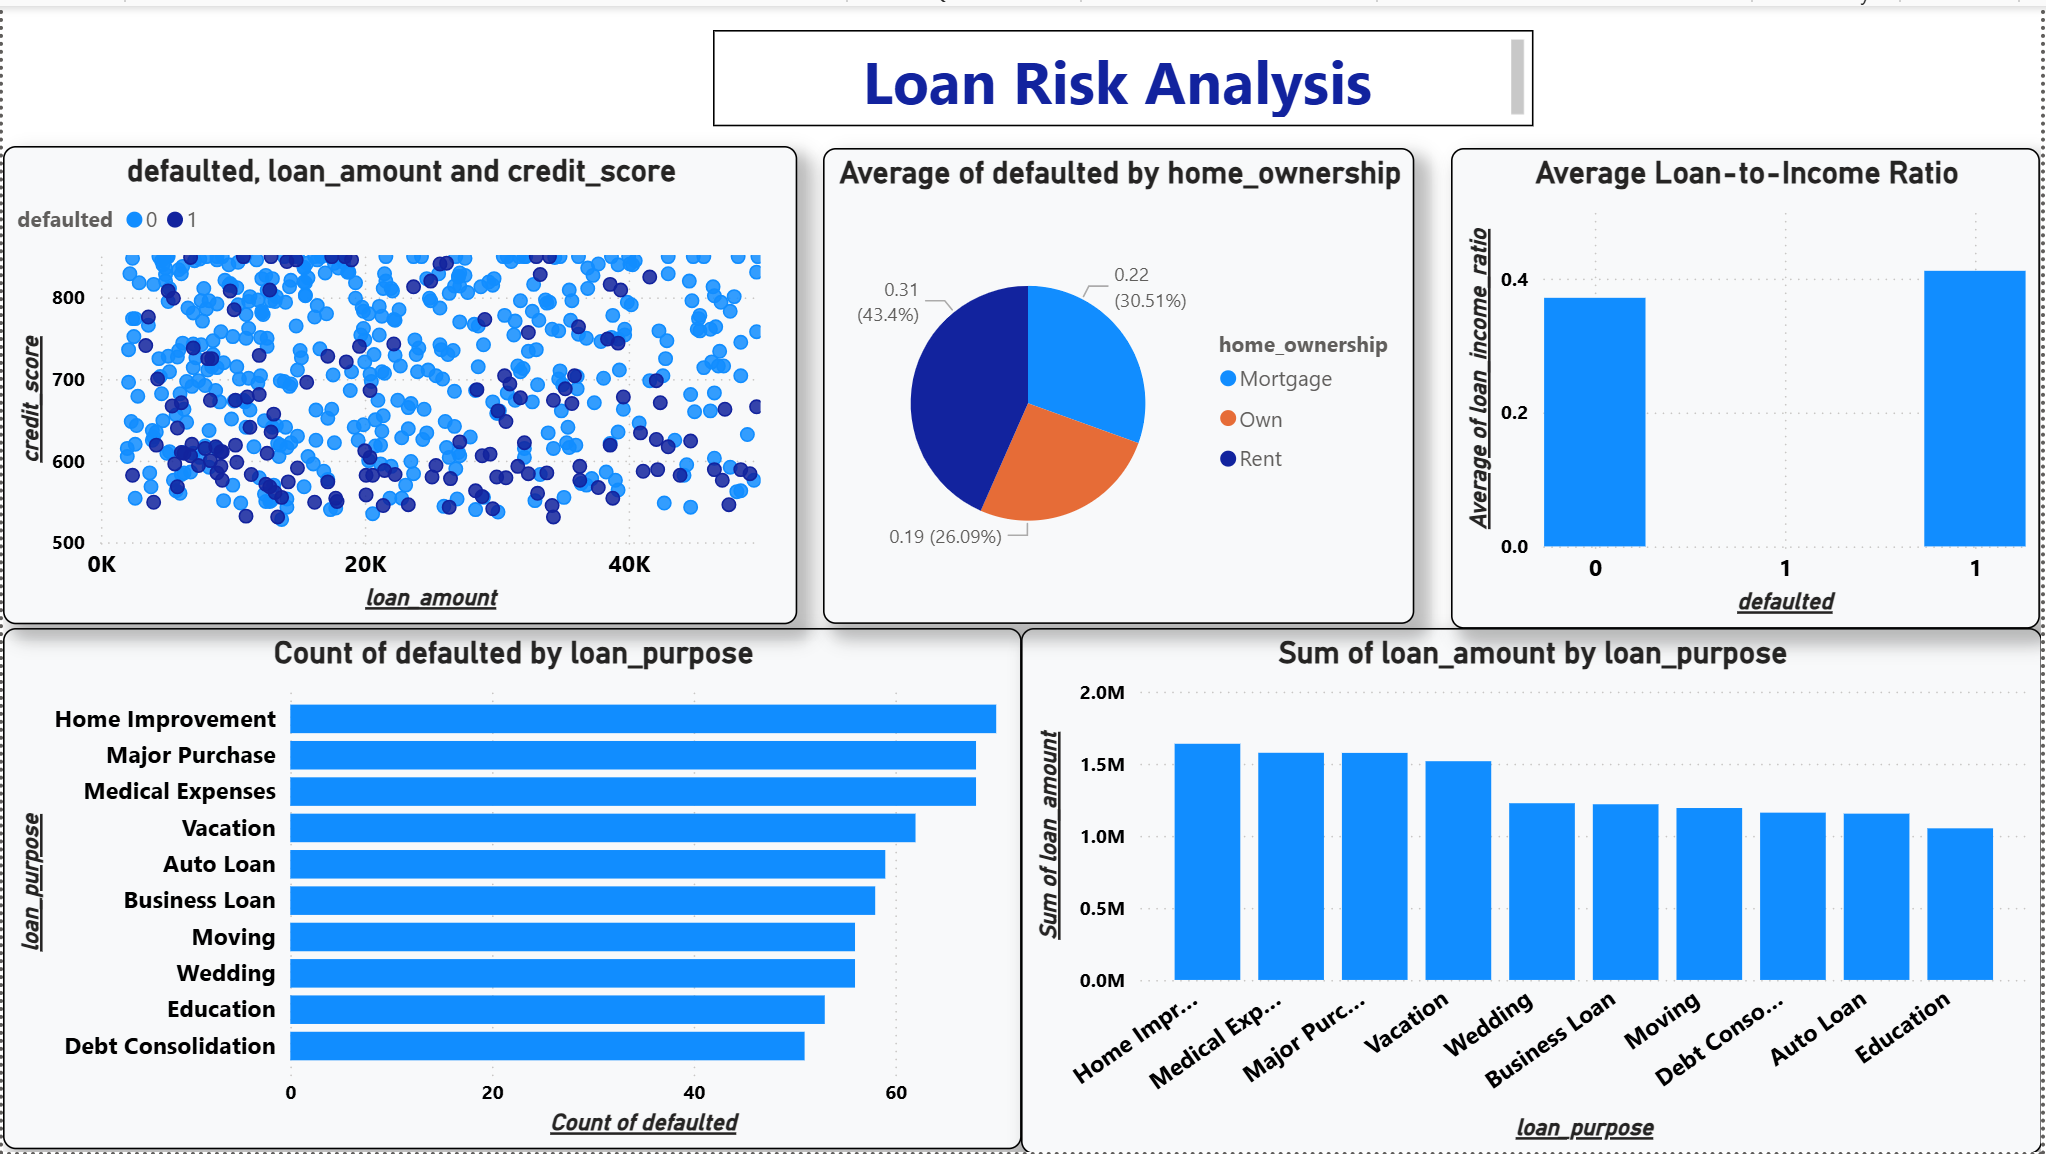

This screenshot's page, from the dashboard's own definition file:
{"tool":"powerbi","page":{"name":"Loan Risk Analysis","canvas":[1280,720],"ordinal":2},"visuals":[{"type":"barChart","fields":{"Category":["loan_applications.loan_purpose"],"Y":["CountNonNull(loan_applications.defaulted)"]},"box":[0,391.3,640,327.6],"z":0},{"type":"scatterChart","fields":{"Series":["loan_applications.defaulted"],"Y":["borrower_profiles.credit_score"],"X":["loan_applications.loan_amount"]},"box":[0,88,499,300.3],"z":1000},{"type":"columnChart","fields":{"Y":["Sum(loan_applications.loan_amount)"],"Category":["loan_applications.loan_purpose"]},"box":[640,391.3,641.5,330.6],"z":2000},{"type":"columnChart","title":"Average Loan-to-Income Ratio","fields":{"Category":["featured_loan_data.defaulted"],"Y":["Avg(featured_loan_data.loan_income_ratio)"]},"box":[910,89.5,370,301.8],"z":3000},{"type":"pieChart","fields":{"Y":["Avg(loan_applications.defaulted)"],"Series":["borrower_profiles.home_ownership"]},"box":[515.6,89.5,371.6,298.8],"z":4000},{"type":"textbox","box":[445.9,15.2,515.6,60.7],"z":5000}]}

Visuals, with their boxes in screenshot pixels (x1, y1, x2, y2), scaled from the page's 1280x720 canvas onto the 2046x1154 screenshot:
barChart - loan_applications.loan_purpose x CountNonNull(loan_applications.defaulted): x1=0 y1=627 x2=1023 y2=1152
scatterChart - loan_applications.defaulted x borrower_profiles.credit_score: x1=0 y1=141 x2=798 y2=622
columnChart - Sum(loan_applications.loan_amount) x loan_applications.loan_purpose: x1=1023 y1=627 x2=2045 y2=1153
"Average Loan-to-Income Ratio" columnChart: x1=1455 y1=143 x2=2045 y2=627
pieChart - Avg(loan_applications.defaulted) x borrower_profiles.home_ownership: x1=824 y1=143 x2=1418 y2=622
textbox: x1=713 y1=24 x2=1537 y2=122
